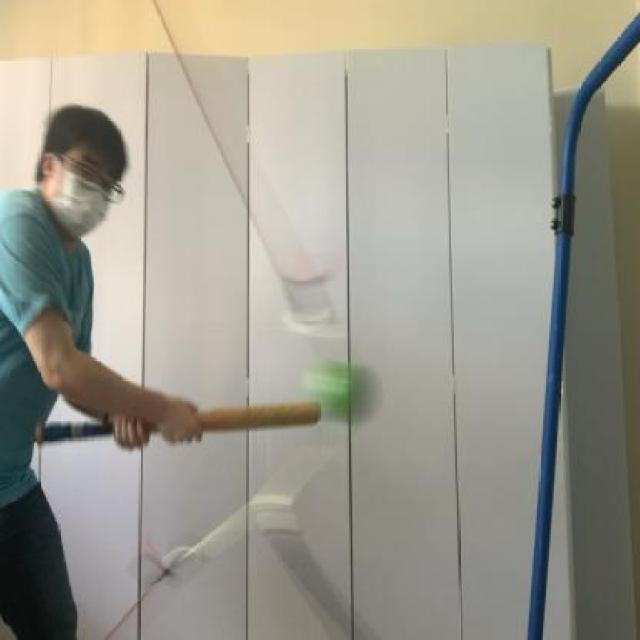baseball: (302, 358, 376, 418)
